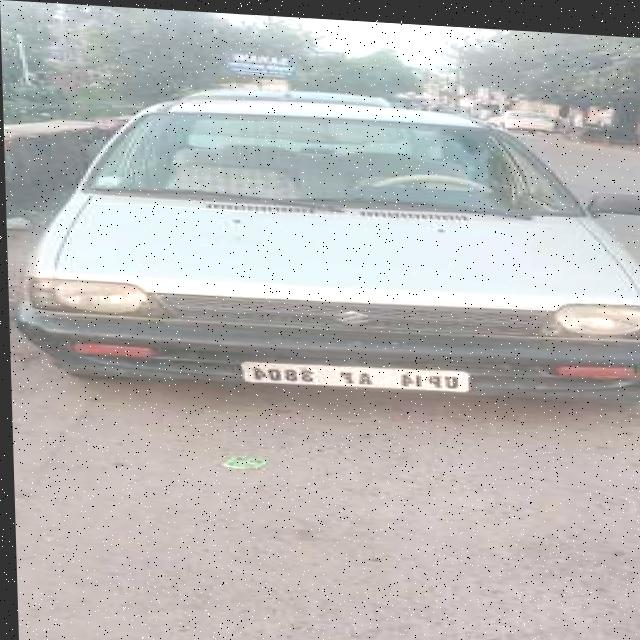plate: (236, 355, 469, 390)
